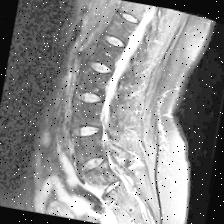disc: (75, 85, 109, 110), (68, 119, 104, 142), (98, 29, 131, 53), (76, 152, 106, 176), (86, 56, 118, 78), (116, 7, 141, 26)
